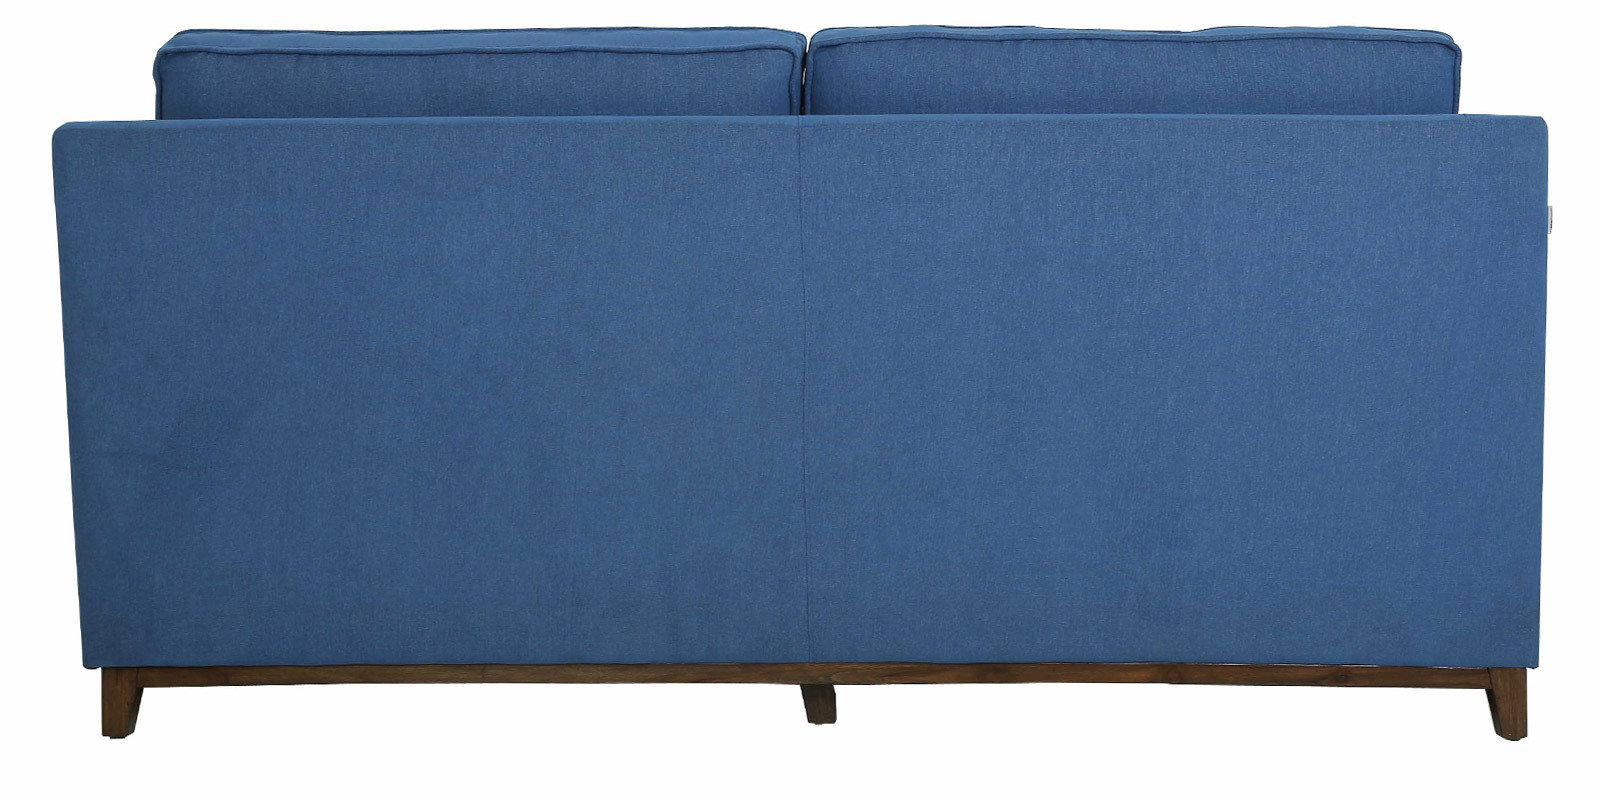Diego Three Seater Sofa in Denim Blue Colour by CasaCraft: (29, 21, 1560, 738)
